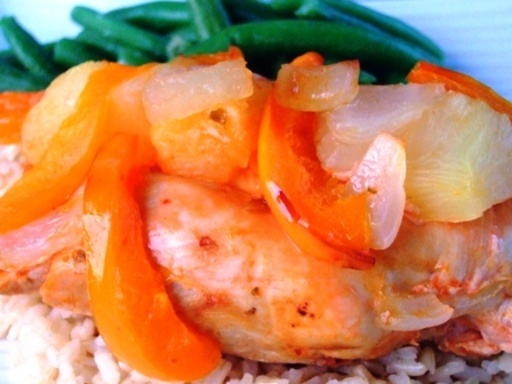background: (0, 0, 410, 230)
